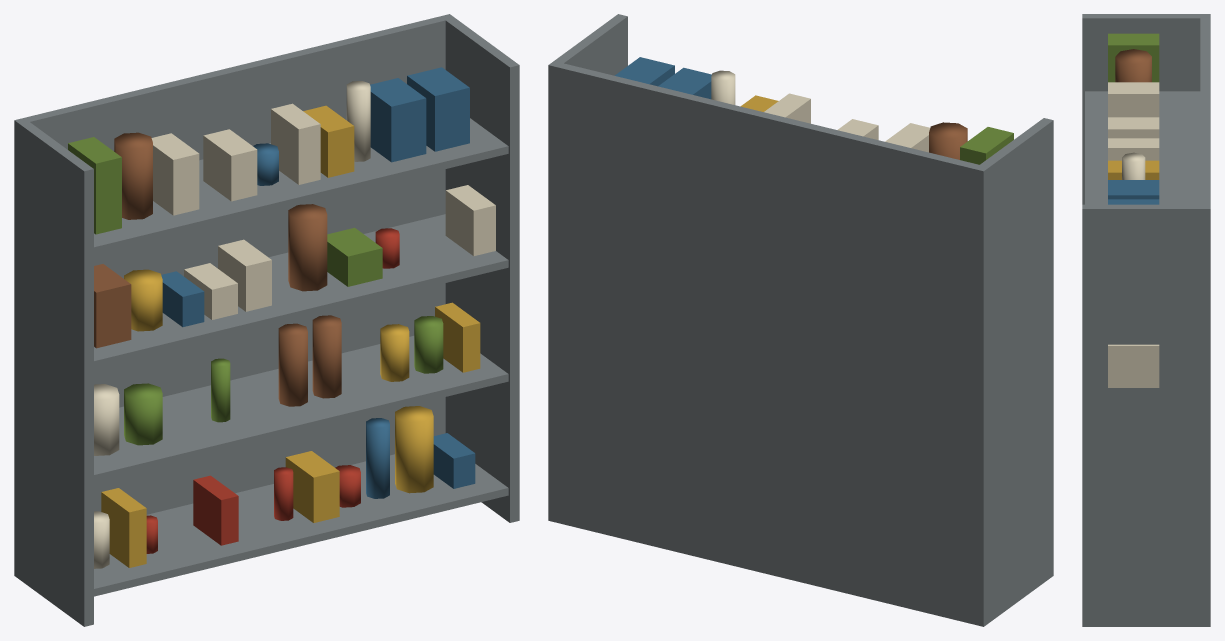
The model's file is shop_shelf.glb.
The picture shows the model from 3 angles, left to right: view 1: azimuth 30°, elevation 25°; view 2: azimuth 150°, elevation 25°; view 3: azimuth 270°, elevation 25°; orthographic projection. The views are drawn at different scales.
Visible parts, largest first — view 1: ShopShelf; view 2: ShopShelf; view 3: ShopShelf.
Part boxes in pixels (x1,y1,x2,y2): ShopShelf: (14, 14, 519, 626); ShopShelf: (548, 14, 1053, 626); ShopShelf: (1082, 14, 1210, 626).
Bounding box in the file's own units: 1.81 × 1.8 × 0.5.
